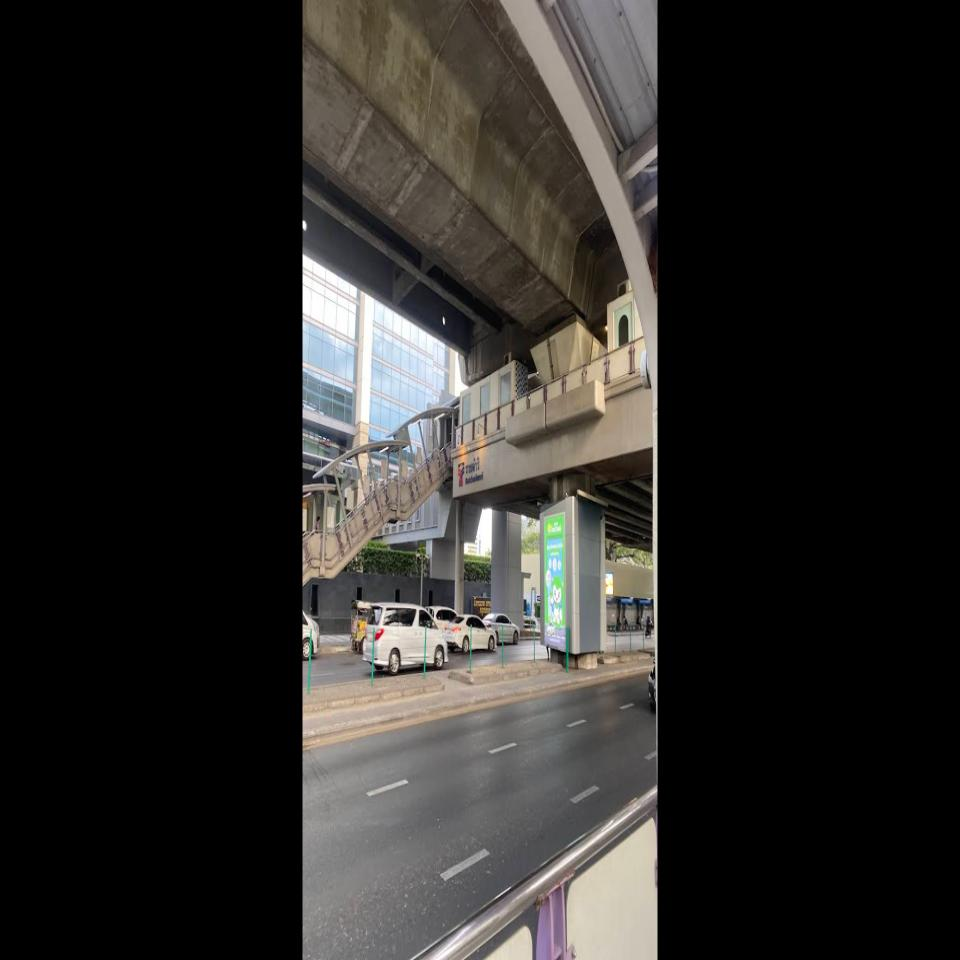signage: (458, 456, 484, 487), (465, 456, 484, 486)
